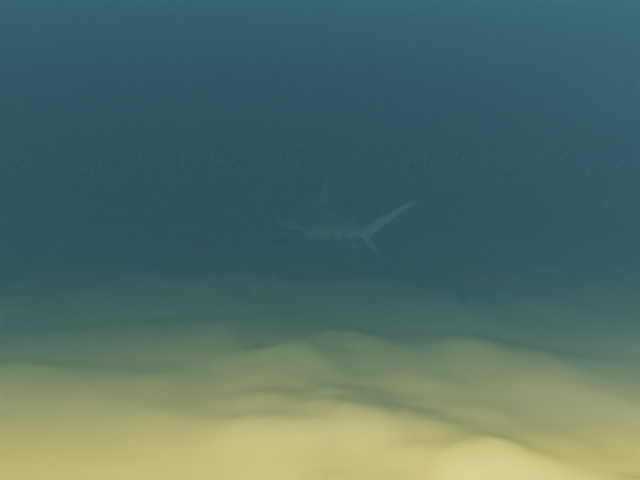Carribean Shark.001: (262, 175, 422, 261)
